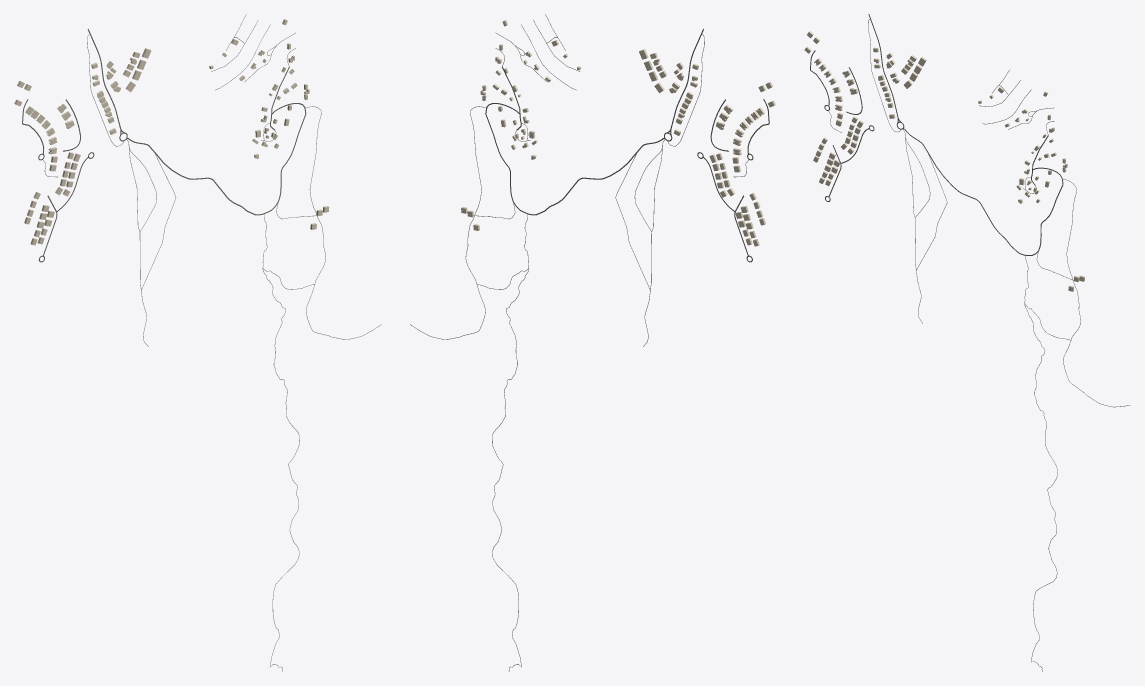
File: historic-palestine-11_22_3525_3164.glb
The picture shows the model from 3 angles, left to right: view 1: azimuth 30°, elevation 25°; view 2: azimuth 150°, elevation 25°; view 3: azimuth 330°, elevation 25°; orthographic projection. The views are drawn at different scales.
Visible parts, largest first — view 1: Road שביל החלמוניות, Road .001; view 2: no part large enough to name; view 3: no part large enough to name.
Boxes of the visible parts, box(x1,y1,x2,y2) form: Road שביל החלמוניות: box(262, 214, 299, 671); Road .001: box(126, 103, 306, 215).
Size of the model in its own units: 1128 by 2034 by 8.7.
